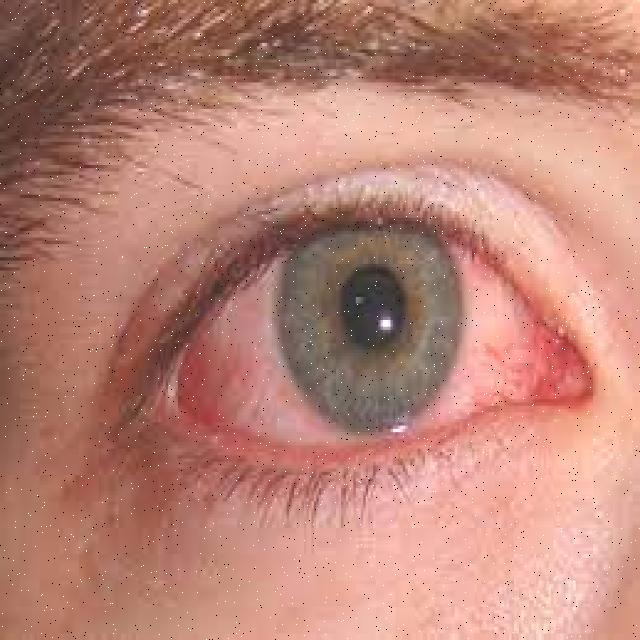Conjunctivitis: (174, 268, 598, 460)
